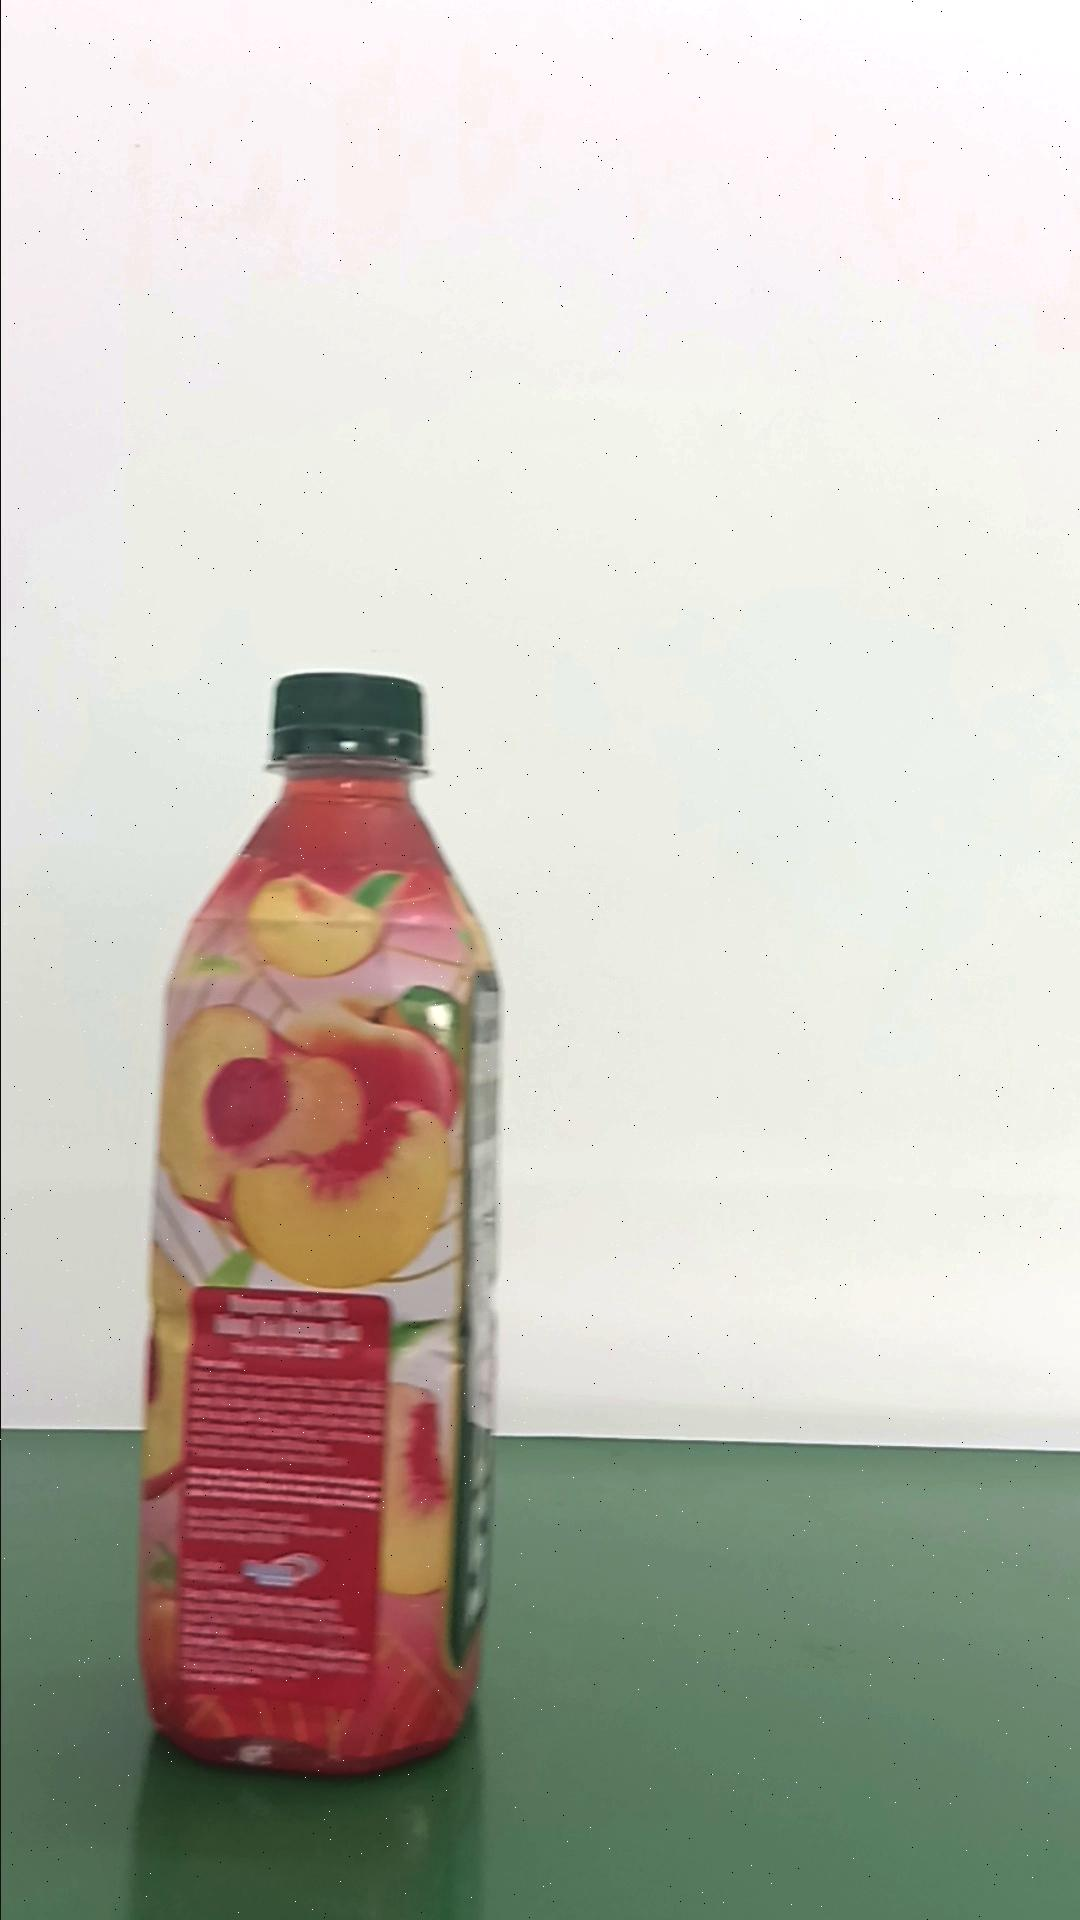khong loi: (135, 669, 505, 1778)
